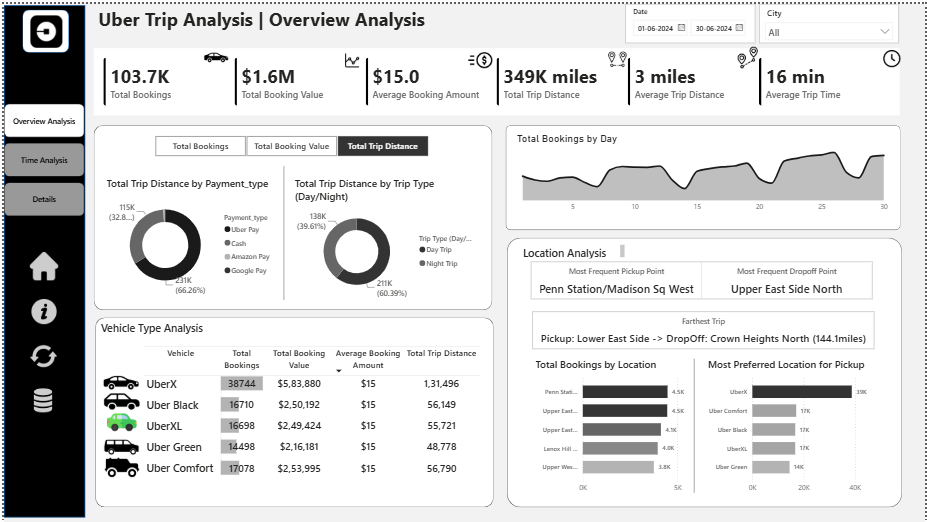

What the dashboard file says about the page in this screenshot:
{"tool":"powerbi","page":{"name":"Overview Analysis","canvas":[1617,912],"ordinal":0},"visuals":[{"type":"shape","box":[0,2.1,142.4,898.1],"z":0},{"type":"textbox","box":[142.4,0,626,56.5],"z":1000},{"type":"cardVisual","fields":{"Data":["Trip Details.Total Bookings","Trip Details.Total Booking Value","Trip Details.Average Booking Amount","Trip Details.Total Trip Distance","Trip Details.Average Trip Distance","Trip Details.Average Trip Time"]},"box":[158,78,1414,118],"z":2000},{"type":"image","box":[332,70,80,48],"z":3000},{"type":"image","box":[812,78,46,42],"z":4000},{"type":"image","box":[1060,80,32,34],"z":5000},{"type":"image","box":[1284,76,42,38],"z":6000},{"type":"image","box":[1542,80,30,32],"z":7000},{"type":"shape","box":[157,211.4,699.2,324.5],"z":8000},{"type":"slicer","fields":{"Values":["Dynamic Measure.Dynamic Measure"]},"box":[240.8,226.1,527.6,48.2],"z":9000},{"type":"donutChart","fields":{"Y":["Trip Details.Total Trip Distance Measure"],"Category":["Trip Details.Payment_type"]},"box":[175.9,301.5,314,217.7],"z":10000},{"type":"donutChart","fields":{"Y":["Trip Details.Total Trip Distance Measure"],"Category":["Trip Details.Trip Type (Day/Night)"]},"box":[504.5,301.5,337.1,217.7],"z":11000},{"type":"shape","box":[159.1,550.6,699.2,332.9],"z":12000},{"type":"pivotTable","fields":{"Rows":["Trip Details.Vehicle"],"Values":["Trip Details.Total Bookings","Trip Details.Total Booking Value","Trip Details.Average Booking Amount","Trip Details.Total Trip Distance Measure"]},"box":[240.8,594.6,600.9,272.2],"z":13000},{"type":"image","box":[158.4,630.2,96.3,69.1],"z":14000},{"type":"image","box":[157.5,665.8,98.4,64.9],"z":15000},{"type":"image","box":[157.4,707.6,98.4,52.3],"z":16000},{"type":"image","box":[173.2,739,67,75.4],"z":17000},{"type":"image","box":[159.5,783,94.2,60.7],"z":18000},{"type":"textbox","box":[159.1,550.6,221.9,44],"z":19000},{"type":"shape","box":[879.3,211.4,693,184.2],"z":20000},{"type":"areaChart","fields":{"Category":["Calendar Table.Date.Variation.Date Hierarchy.Day"],"Y":["Trip Details.Total Bookings"]},"box":[893.9,226.1,663.7,148.6],"z":21000},{"type":"shape","box":[881.4,410.3,693,473.1],"z":22000},{"type":"cardVisual","fields":{"Data":["Trip Details.Most Frequent Pickup Point","Trip Details.Most Frequent Dropoff Point"]},"box":[908.6,435.5,634.3,100.5],"z":23000},{"type":"cardVisual","fields":{"Data":["Trip Details.Farthest Trip"]},"box":[910.7,523.4,634.3,100.5],"z":24000},{"type":"barChart","fields":{"Category":["Location Table.Location"],"Y":["Trip Details.Total Bookings"]},"box":[927.4,619.7,299.4,247],"z":25000},{"type":"barChart","title":"Most Preferred Location for Pickup","fields":{"Category":["Trip Details.Vehicle"],"Y":["CountNonNull(Trip Details.PULocationID)"]},"box":[1228.9,619.7,299.4,247],"z":26000},{"type":"shape","box":[456.4,284.7,67,234.5],"z":27000},{"type":"shape","box":[1176.6,621.8,67,234.5],"z":28000},{"type":"textbox","box":[893.9,416.6,198.9,33.5],"z":29000},{"type":"slicer","fields":{"Values":["Calendar Table.Date"]},"box":[1090.7,0,228.2,69.1],"z":30000},{"type":"image","box":[584,86,52,28],"z":31000},{"type":"slicer","fields":{"Values":["Location Table.City"]},"box":[1325.2,0,244.9,69.1],"z":32000},{"type":"group","id":"g1","title":"Group 1","box":[31.4,10.5,81.6,75.4],"z":33000},{"type":"shape","box":[31.4,10.5,81.6,75.4],"z":33000,"group":"g1"},{"type":"image","box":[37.7,21,69.1,56.5],"z":34000,"group":"g1"},{"type":"pageNavigator","box":[0,174.7,141.6,198.6],"z":34000},{"type":"image","box":[42.3,435.7,55.2,49.6],"z":35000},{"type":"image","box":[42.3,518.5,55.2,44.1],"z":36000},{"type":"image","box":[40.4,595.7,58.8,46],"z":37000},{"type":"image","box":[47.8,658.2,42.3,75.4],"z":38000}]}

Visuals, with their boxes on the page's 1617x912 design canvas (x1, y1, x2, y2). These are canvas units, not pixel positions in the 927x522 screenshot, which may show the page scaled, cropped or inside an application window:
shape: 0, 2, 142, 900
textbox: 142, 0, 768, 56
cardVisual - Trip Details.Total Bookings x Trip Details.Total Booking Value: 158, 78, 1572, 196
image: 332, 70, 412, 118
image: 812, 78, 858, 120
image: 1060, 80, 1092, 114
image: 1284, 76, 1326, 114
image: 1542, 80, 1572, 112
shape: 157, 211, 856, 536
slicer - Dynamic Measure.Dynamic Measure: 241, 226, 768, 274
donutChart - Trip Details.Total Trip Distance Measure x Trip Details.Payment_type: 176, 302, 490, 519
donutChart - Trip Details.Total Trip Distance Measure x Trip Details.Trip Type (Day/Night): 504, 302, 842, 519
shape: 159, 551, 858, 884
pivotTable - Trip Details.Vehicle x Trip Details.Total Bookings: 241, 595, 842, 867
image: 158, 630, 255, 699
image: 158, 666, 256, 731
image: 157, 708, 256, 760
image: 173, 739, 240, 814
image: 160, 783, 254, 844
textbox: 159, 551, 381, 595
shape: 879, 211, 1572, 396
areaChart - Calendar Table.Date.Variation.Date Hierarchy.Day x Trip Details.Total Bookings: 894, 226, 1558, 375
shape: 881, 410, 1574, 883
cardVisual - Trip Details.Most Frequent Pickup Point x Trip Details.Most Frequent Dropoff Point: 909, 436, 1543, 536
cardVisual - Trip Details.Farthest Trip: 911, 523, 1545, 624
barChart - Location Table.Location x Trip Details.Total Bookings: 927, 620, 1227, 867
"Most Preferred Location for Pickup" barChart: 1229, 620, 1528, 867
shape: 456, 285, 523, 519
shape: 1177, 622, 1244, 856
textbox: 894, 417, 1093, 450
slicer - Calendar Table.Date: 1091, 0, 1319, 69
image: 584, 86, 636, 114
slicer - Location Table.City: 1325, 0, 1570, 69
"Group 1" group: 31, 10, 113, 86
shape: 31, 10, 113, 86
image: 38, 21, 107, 78
pageNavigator: 0, 175, 142, 373
image: 42, 436, 98, 485
image: 42, 518, 98, 563
image: 40, 596, 99, 642
image: 48, 658, 90, 734
